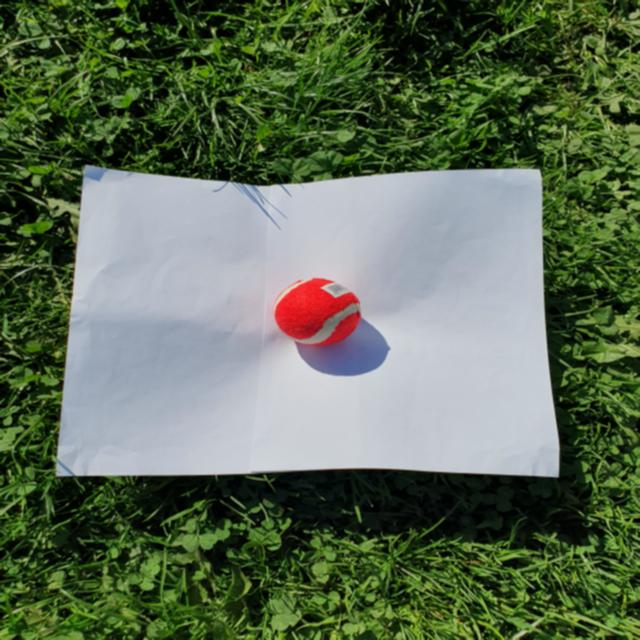red: (273, 277, 363, 347)
